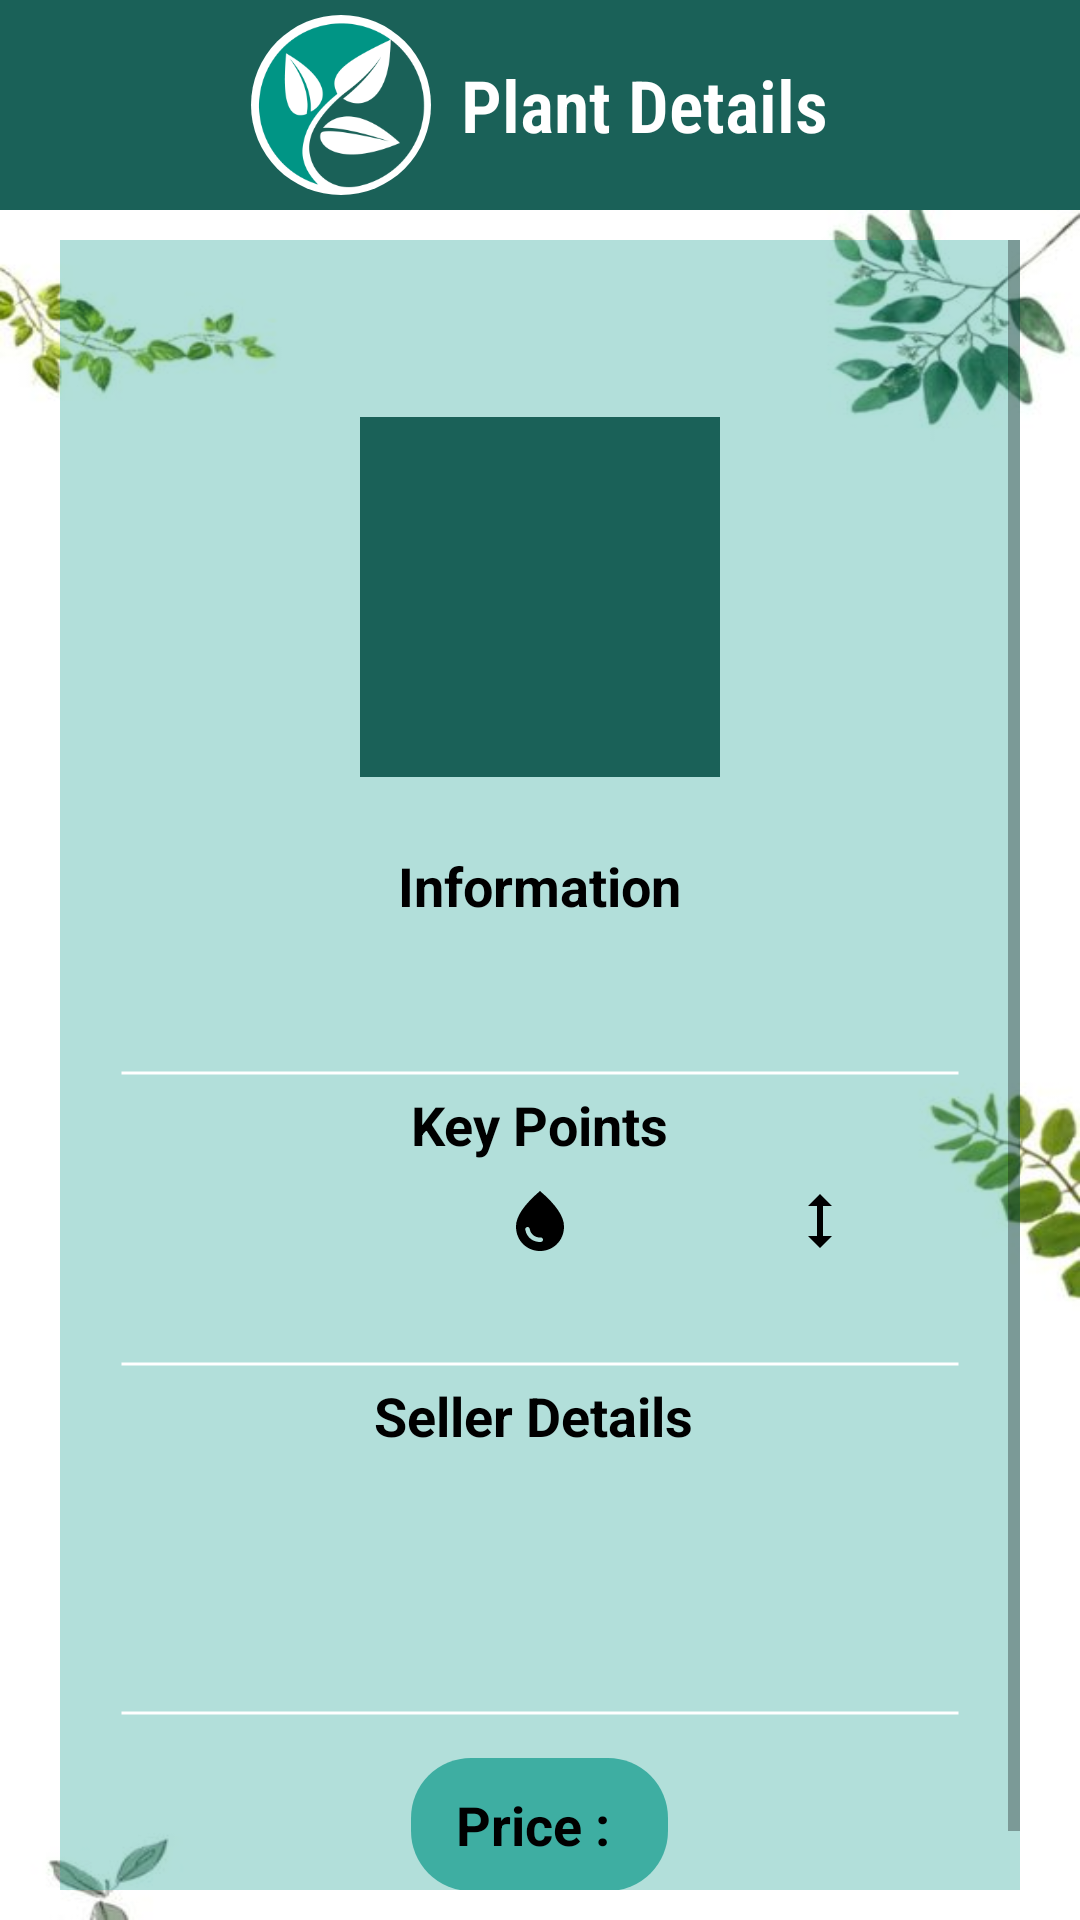

Point at icon controls on the screen. Image size 1080*1920, points as (x=x, y=y).
height: (x=820, y=1221)
watering: (x=540, y=1221)
